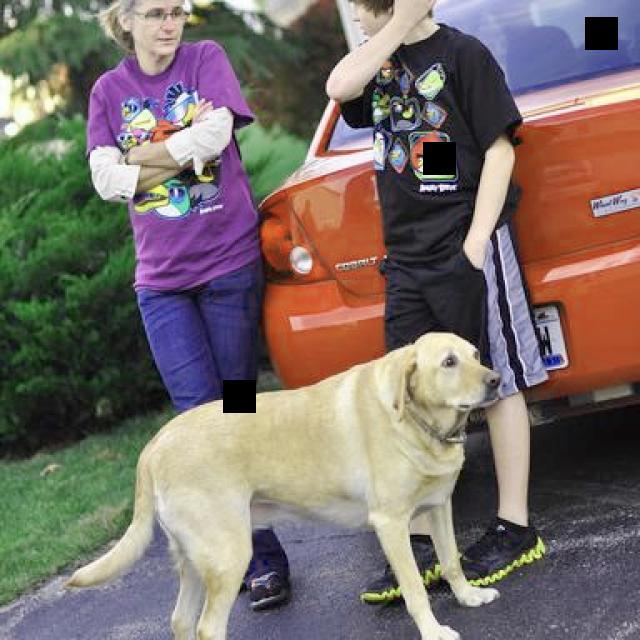adult_dog: (54, 333, 500, 640)
